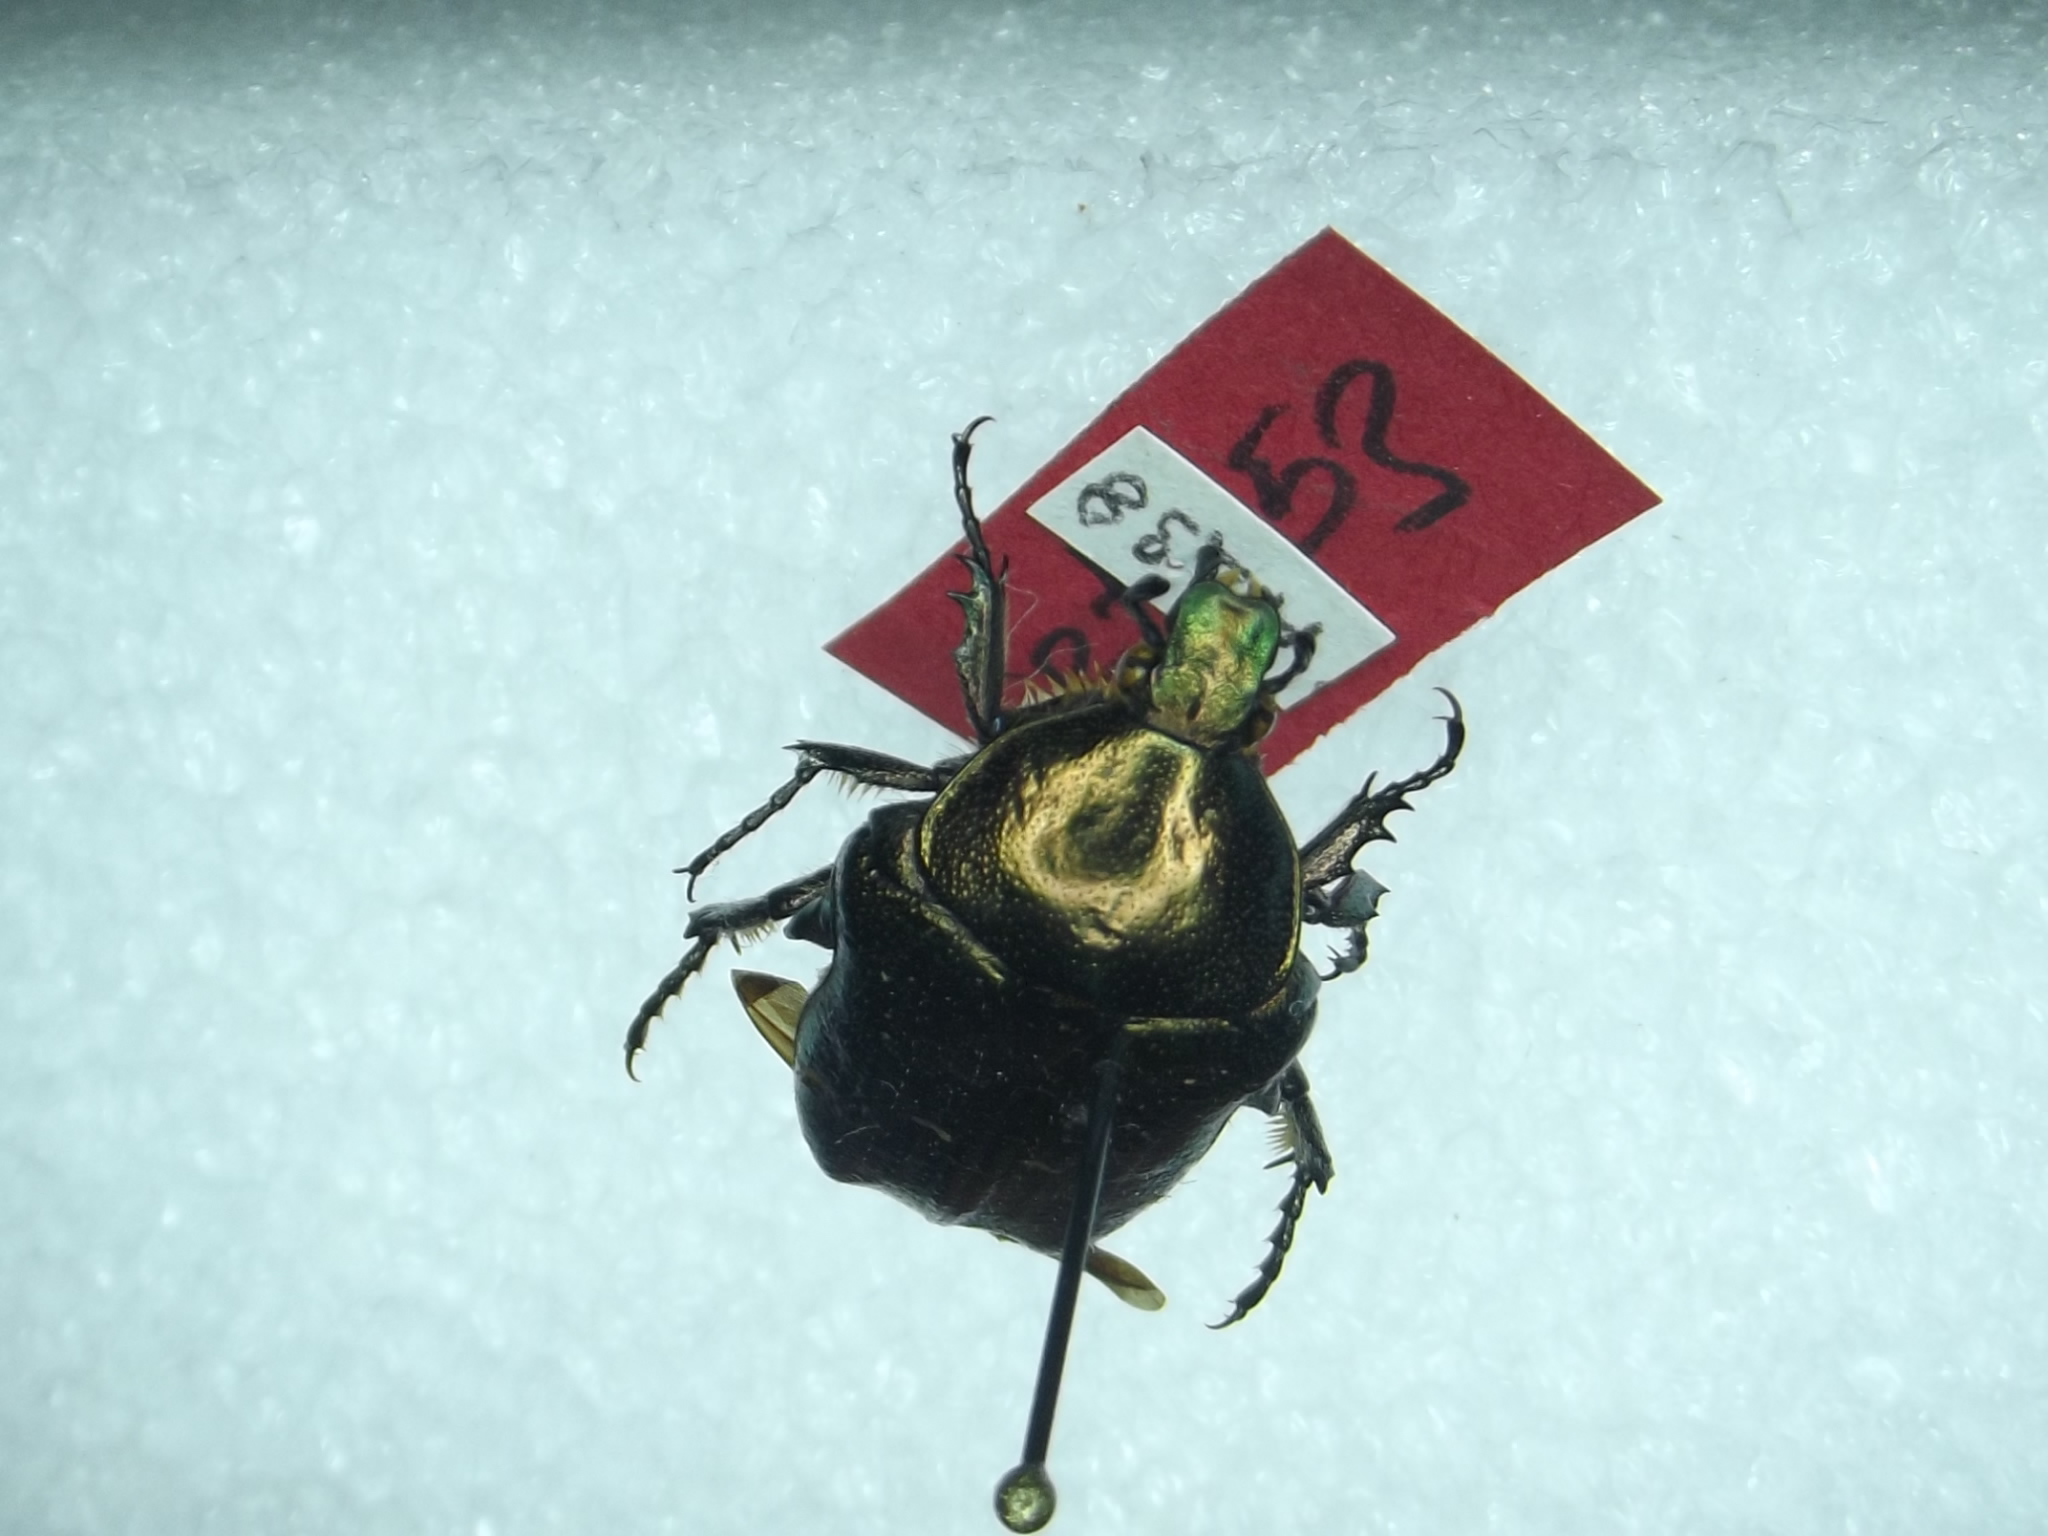Cetonia_kemali: (610, 369, 1508, 1371)
